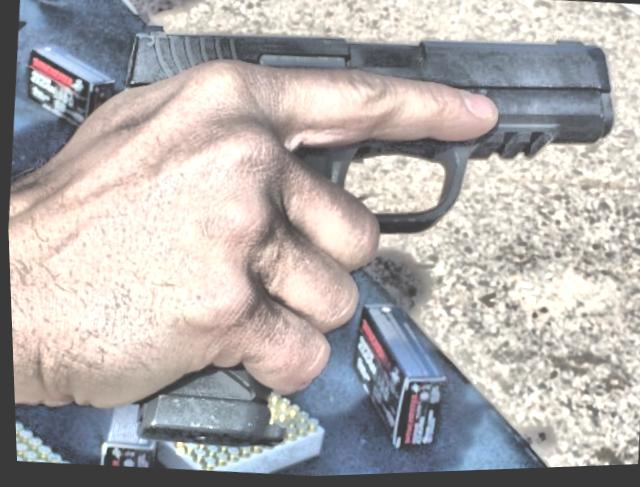pistol: (88, 0, 631, 480)
